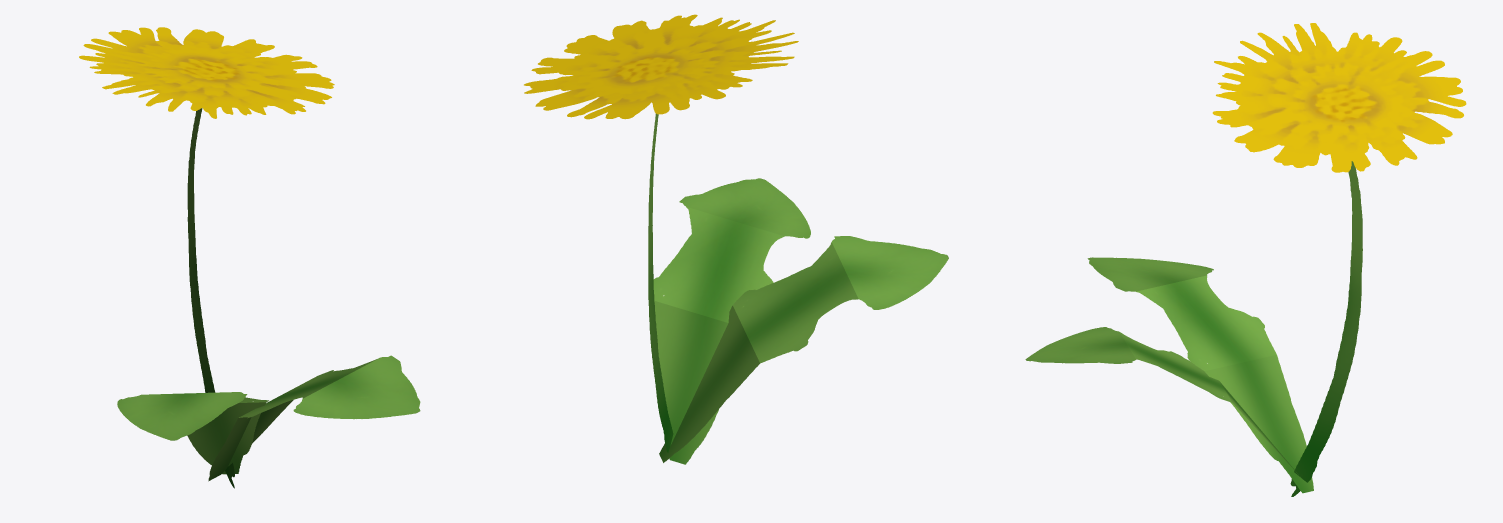
Rendered from ARC0710048.fbx.
3 renders of one model, left to right at view 1: azimuth 30°, elevation 25°; view 2: azimuth 150°, elevation 25°; view 3: azimuth 270°, elevation 25°, orthographic. The views are drawn at different scales.
Visible parts, largest first — view 1: smARC0710048; view 2: smARC0710048; view 3: smARC0710048.
Part boxes in pixels (box(x1,y1,x2,y2)): smARC0710048: box(79, 27, 420, 488); smARC0710048: box(524, 14, 948, 464); smARC0710048: box(1025, 23, 1466, 496).
Size of the model in its own units: 26.1 by 31.34 by 32.18.
1 material, 1 textured.
